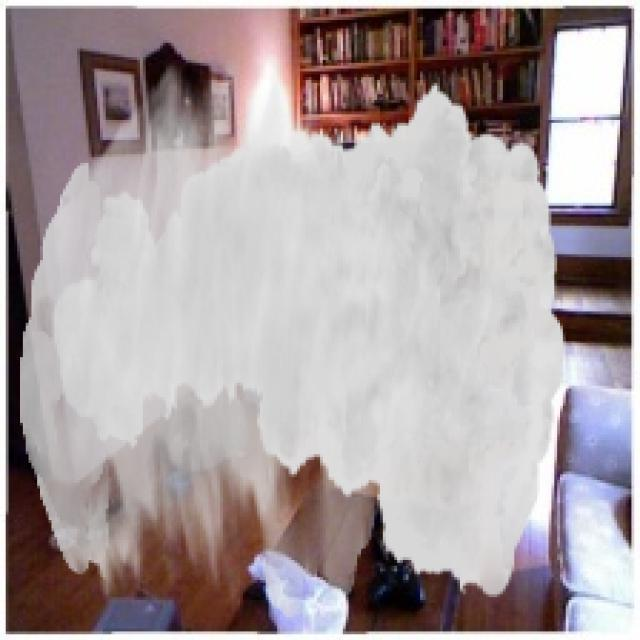Smoke: (20, 60, 566, 617)
